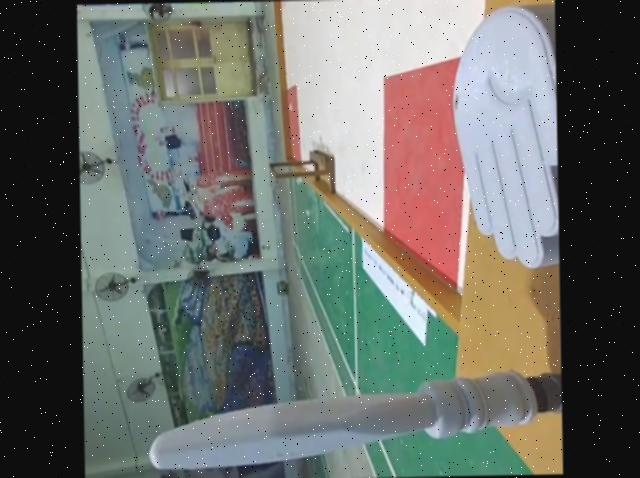Hand: (446, 0, 559, 267)
Sph: (149, 358, 563, 469)
